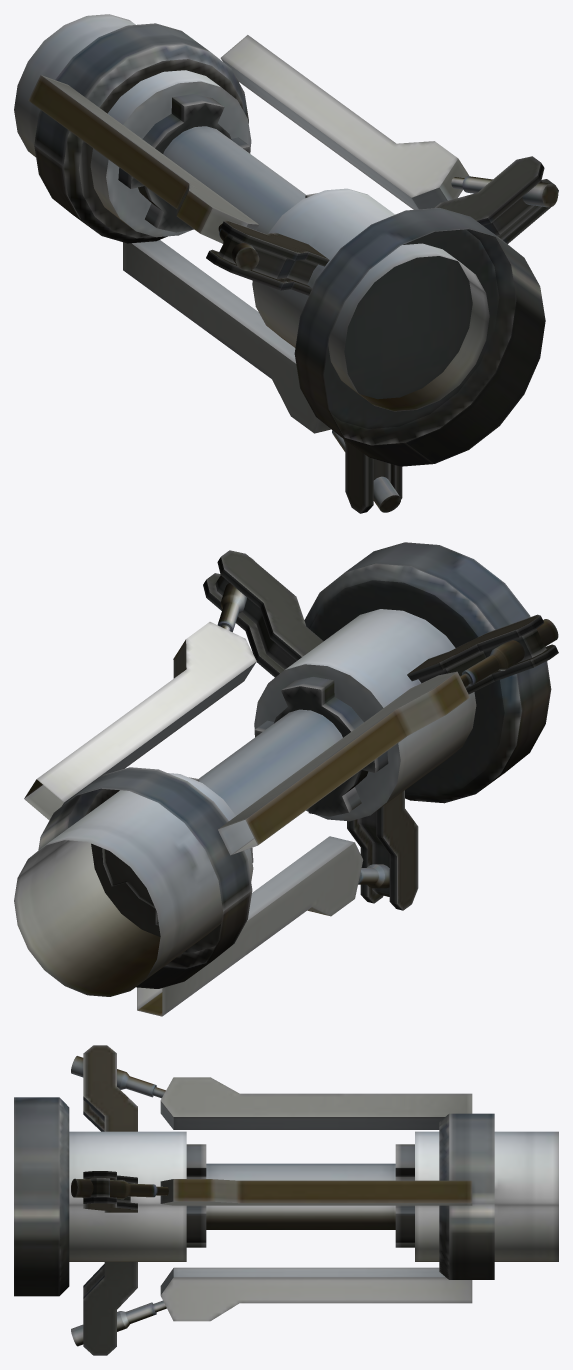
Rendered from windpowergenerator_inside_2001_07.obj.
3 renders of one model, top to bottom at view 1: azimuth 30°, elevation 25°; view 2: azimuth 150°, elevation 25°; view 3: azimuth 270°, elevation 25°, orthographic. The views are drawn at different scales.
Visible parts, largest first — view 1: pasted__group59_pCylinder158; view 2: pasted__group59_pCylinder158; view 3: pasted__group59_pCylinder158.
Boxes of the visible parts, left/top/right/bottom form: pasted__group59_pCylinder158: left=14, top=14, right=558, bottom=513; pasted__group59_pCylinder158: left=14, top=542, right=558, bottom=1016; pasted__group59_pCylinder158: left=14, top=1045, right=558, bottom=1355.
Size of the model in its own units: 99.69 by 87.76 by 175.
Materials: 1 (1 with a texture image).
